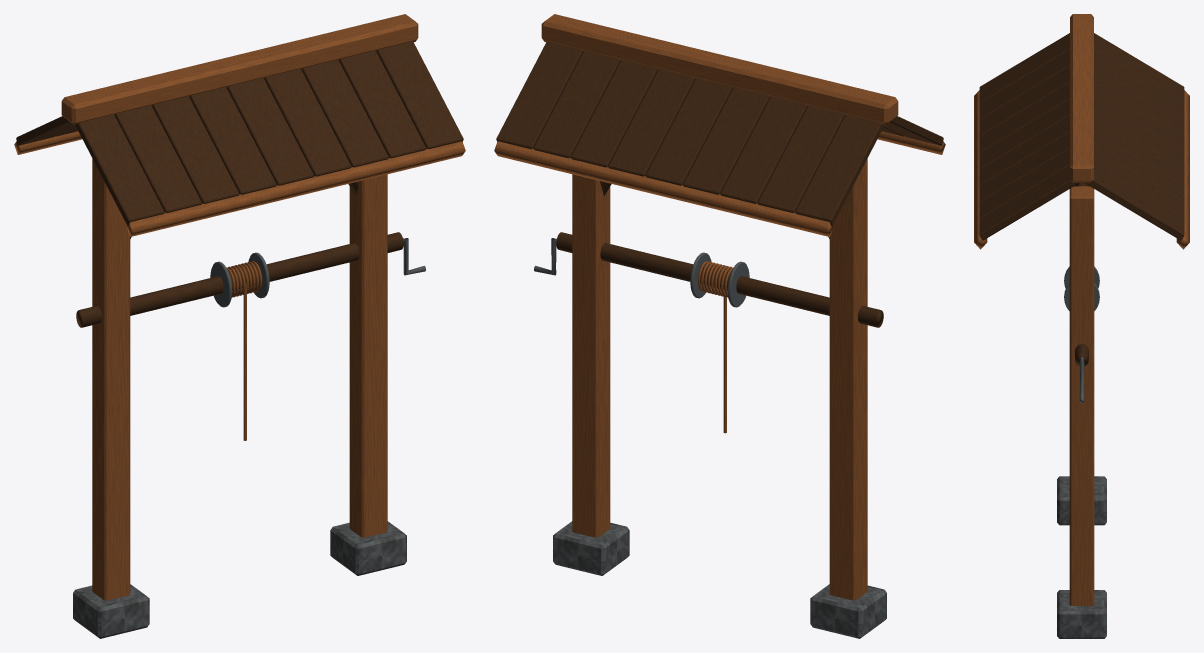
Rendered from well-frame.glb.
3 renders of one model, left to right at view 1: azimuth 30°, elevation 25°; view 2: azimuth 150°, elevation 25°; view 3: azimuth 270°, elevation 25°, orthographic. The views are drawn at different scales.
Parts seen in each view (by area): view 1: well-frame; view 2: well-frame; view 3: well-frame.
Part boxes in pixels (x1,y1,x2,y2): well-frame: (14,14,465,638); well-frame: (494,14,945,638); well-frame: (974,14,1189,638).
Size of the model in its own units: 1.56 by 2.22 by 0.9.
Materials: 5 (3 with a texture image).
